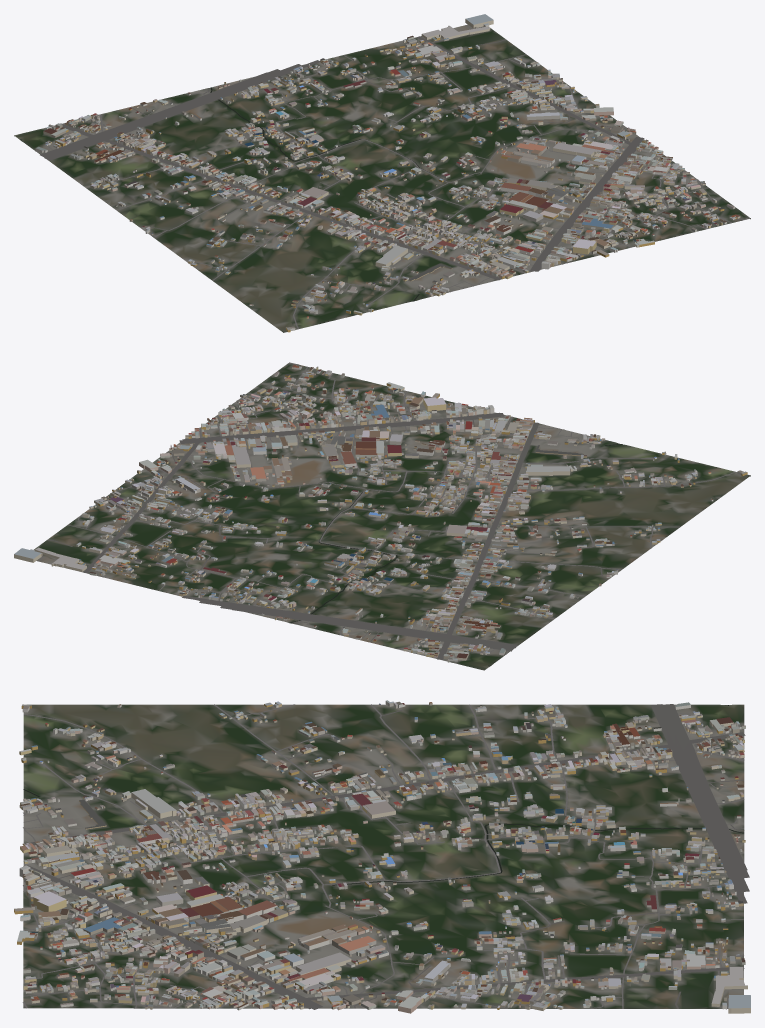
3 renders of one model, top to bottom at view 1: azimuth 30°, elevation 25°; view 2: azimuth 150°, elevation 25°; view 3: azimuth 270°, elevation 25°, orthographic. The views are drawn at different scales.
Parts seen in each view (by area): view 1: ground, buildings, roads; view 2: ground, buildings, roads; view 3: ground, buildings, roads, water.
Boxes of the visible parts, x1,y1,x2,y2 form: ground: (14,24,750,332); buildings: (35,14,740,332); roads: (35,25,749,328); ground: (34,362,750,670); buildings: (14,364,747,662); roads: (38,363,735,659); ground: (23,704,744,1008); buildings: (14,700,750,1013); roads: (22,704,749,1009); water: (23,705,743,885).
Size of the model in its own units: 1428 by 21.47 by 1432.
